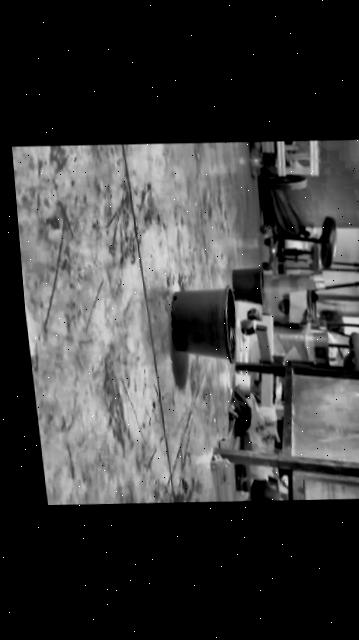pot: (166, 286, 240, 365), (229, 267, 265, 308)
